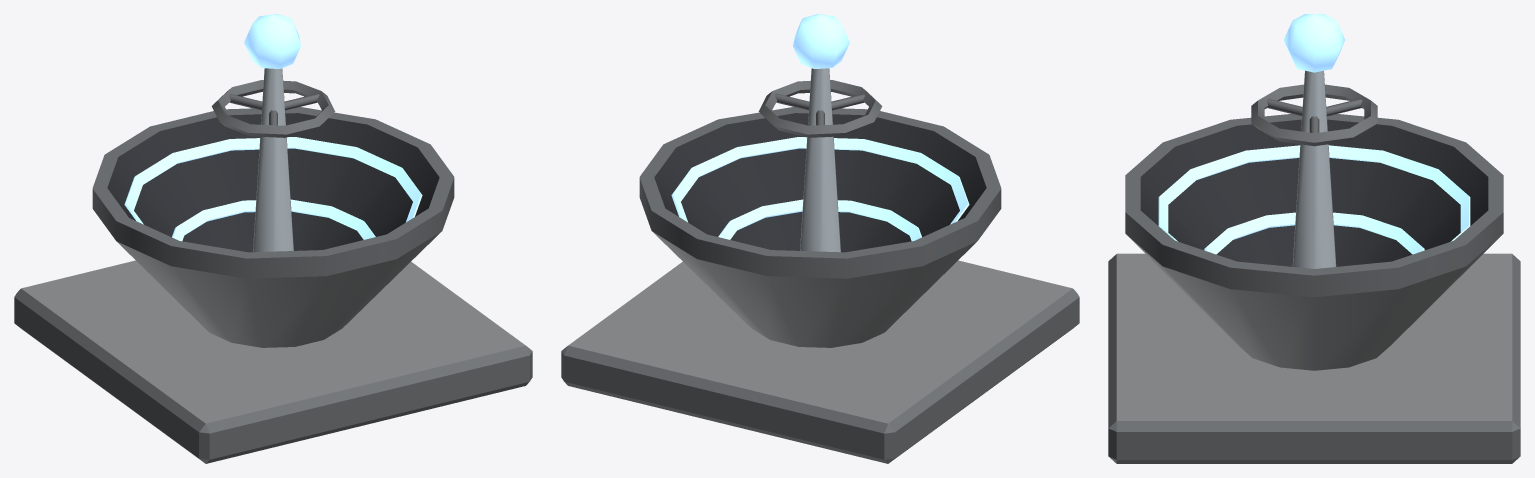
The model's file is R4X_ScannerPulse_LOD1.glb.
3 renders of one model, left to right at view 1: azimuth 30°, elevation 25°; view 2: azimuth 150°, elevation 25°; view 3: azimuth 270°, elevation 25°, orthographic. The views are drawn at different scales.
Parts seen in each view (by area): view 1: R4X_ScannerPulse_LOD1; view 2: R4X_ScannerPulse_LOD1; view 3: R4X_ScannerPulse_LOD1.
Boxes of the visible parts, left/top/right/bottom form: R4X_ScannerPulse_LOD1: left=14, top=14, right=532, bottom=463; R4X_ScannerPulse_LOD1: left=561, top=14, right=1079, bottom=463; R4X_ScannerPulse_LOD1: left=1108, top=14, right=1520, bottom=463.
Bounding box in the file's own units: 0.52 × 0.51 × 0.52.
